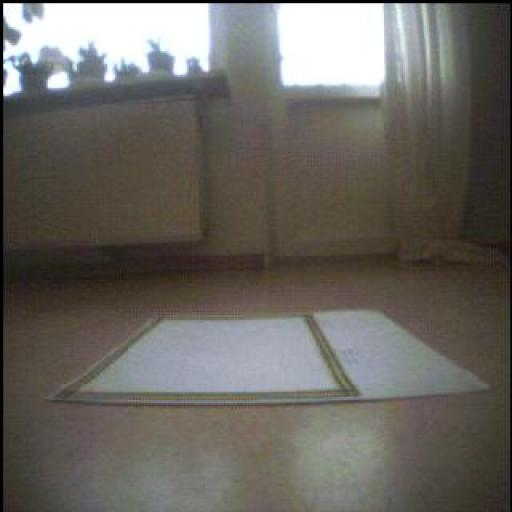Pad: (54, 311, 489, 406)
